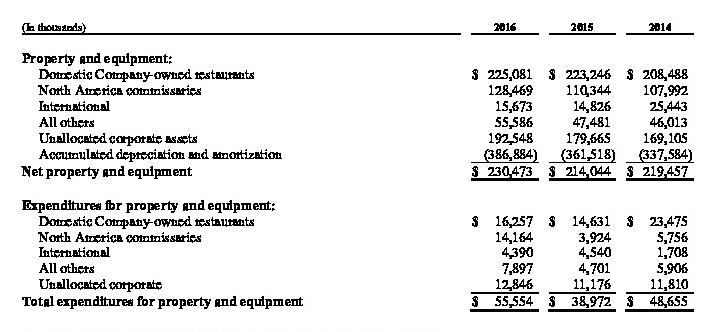table: (0, 0, 710, 332)
